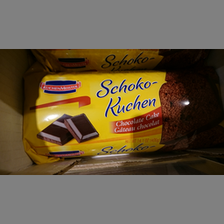cake: (16, 71, 221, 162)
